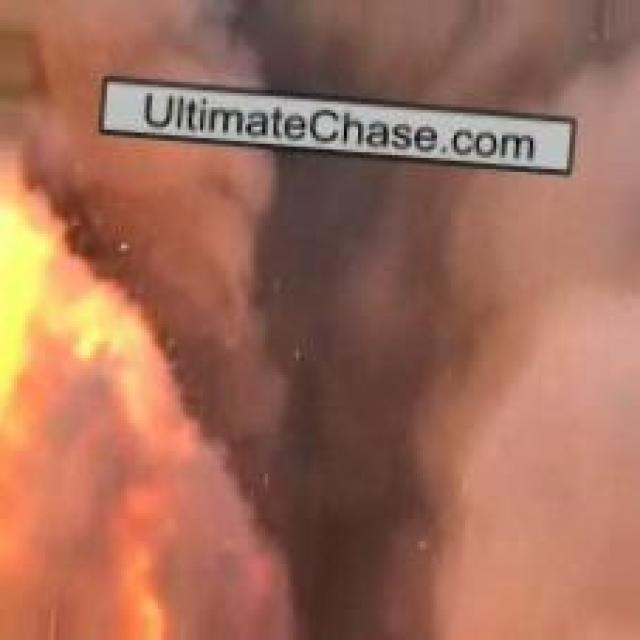smoke: (28, 12, 634, 609)
